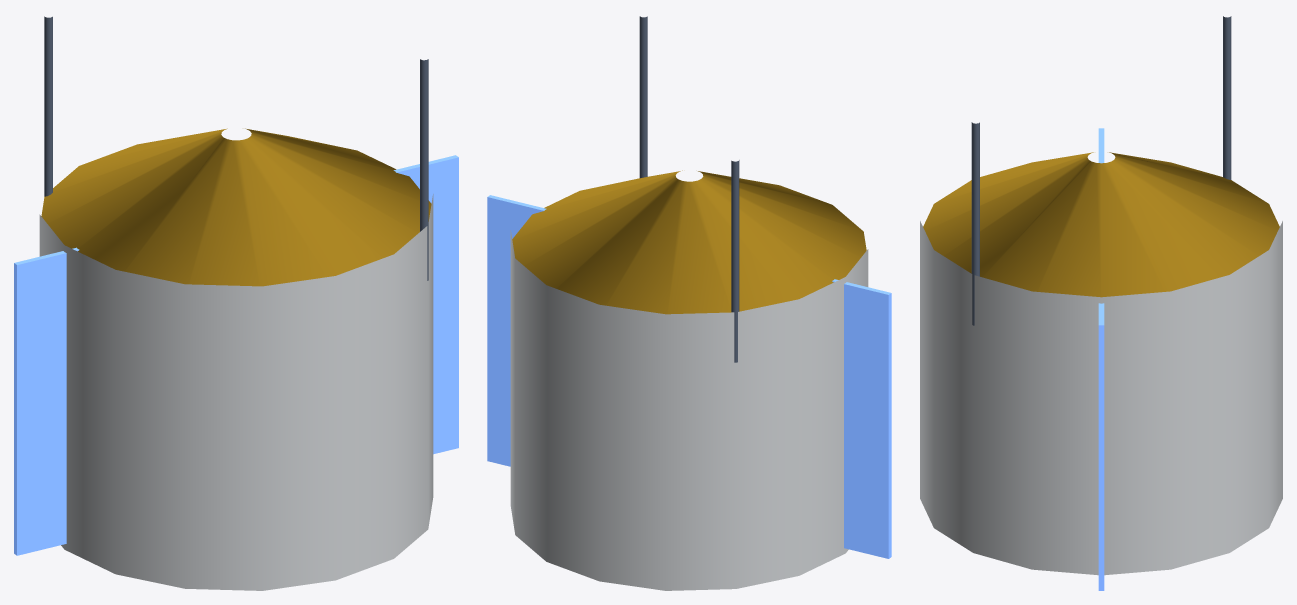
Rendered from aryabhata.glb.
3 views of the same model, side by side, from view 1: azimuth 30°, elevation 25°; view 2: azimuth 150°, elevation 25°; view 3: azimuth 270°, elevation 25° (orthographic). The views are drawn at different scales.
Parts seen in each view (by area): view 1: Polyhedron_Bus, Top_Cap, Solar_Array_1, Solar_Array_2, Antenna_1, Antenna_2; view 2: Polyhedron_Bus, Top_Cap, Solar_Array_1, Solar_Array_2, Antenna_2, Antenna_1; view 3: Polyhedron_Bus, Top_Cap, Solar_Array_2, Antenna_1, Antenna_2.
Boxes of the visible parts, <box> form: Polyhedron_Bus: <box>39,194,433,590</box>; Top_Cap: <box>41,128,431,286</box>; Solar_Array_1: <box>14,247,79,555</box>; Solar_Array_2: <box>393,155,458,454</box>; Antenna_1: <box>420,59,428,280</box>; Antenna_2: <box>44,16,52,196</box>; Polyhedron_Bus: <box>510,230,868,590</box>; Top_Cap: <box>512,170,866,314</box>; Solar_Array_1: <box>832,279,891,558</box>; Solar_Array_2: <box>487,195,546,466</box>; Antenna_2: <box>731,160,739,362</box>; Antenna_1: <box>639,16,647,178</box>; Polyhedron_Bus: <box>920,221,1282,575</box>; Top_Cap: <box>923,152,1279,297</box>; Solar_Array_2: <box>1098,303,1104,590</box>; Antenna_1: <box>971,122,979,325</box>; Antenna_2: <box>1223,16,1231,179</box>.
Bounding box in the file's own units: 1.67 × 1.95 × 1.3.
